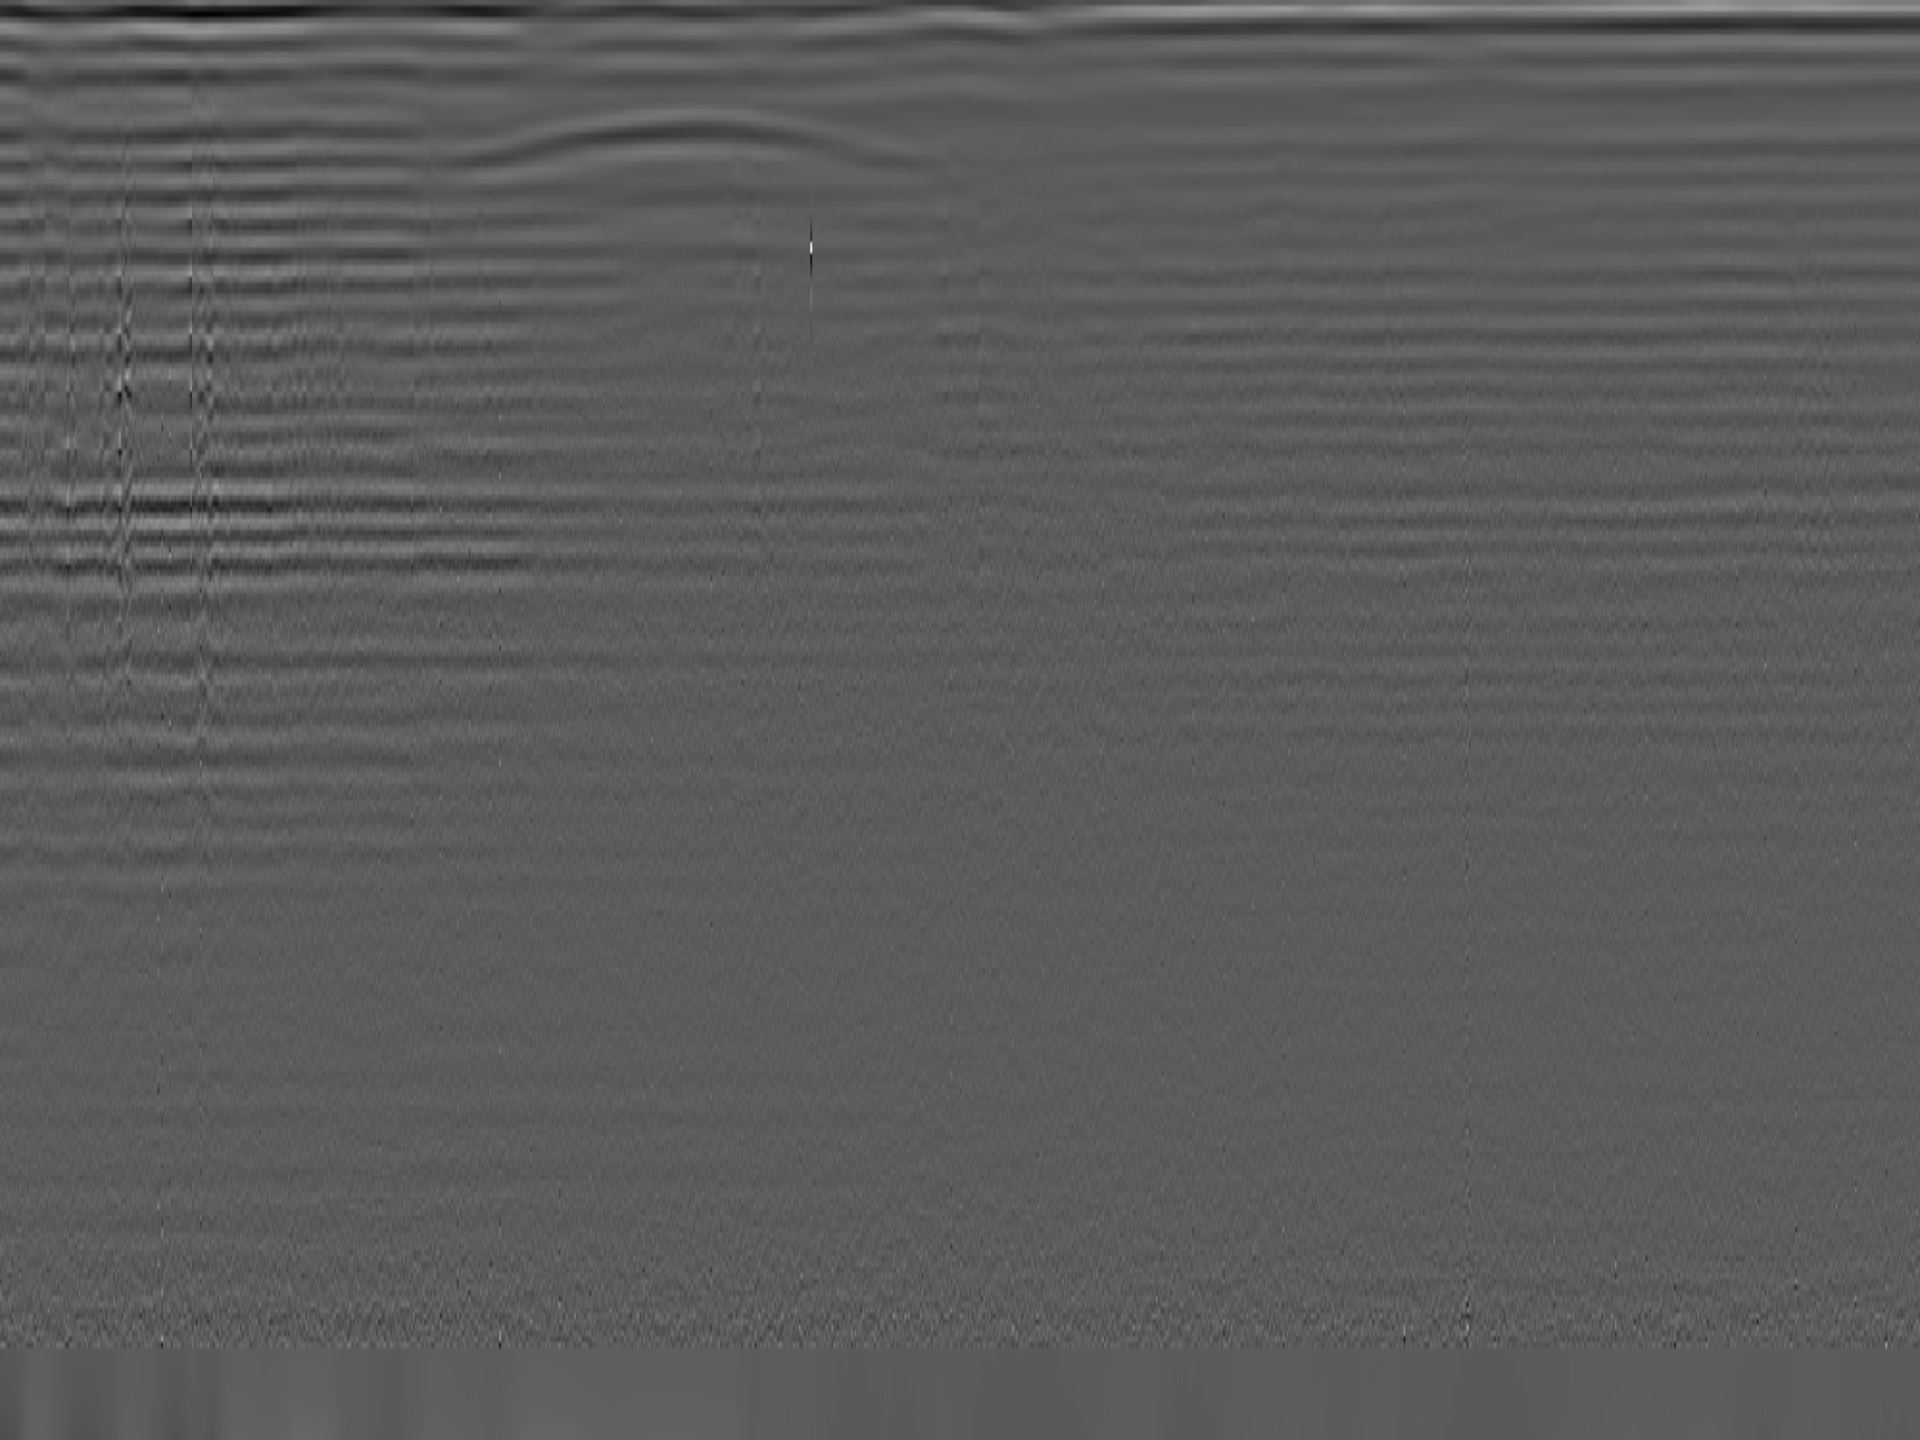Tunnel: (443, 109, 948, 178)
